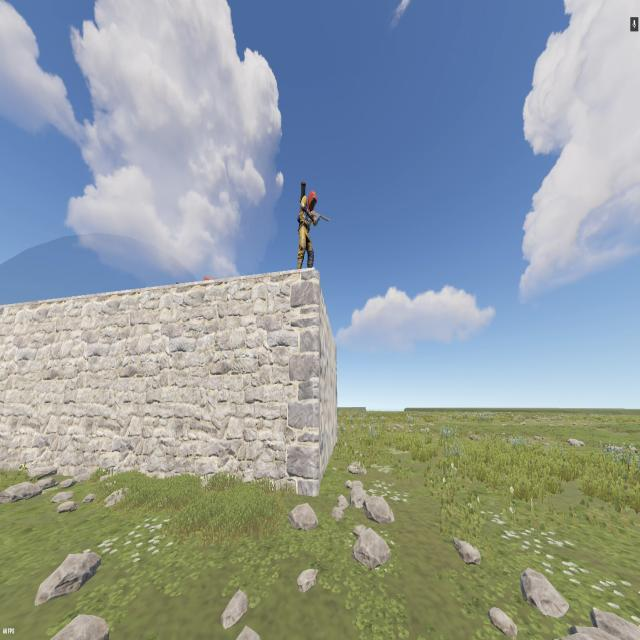Player: (296, 188, 320, 272)
